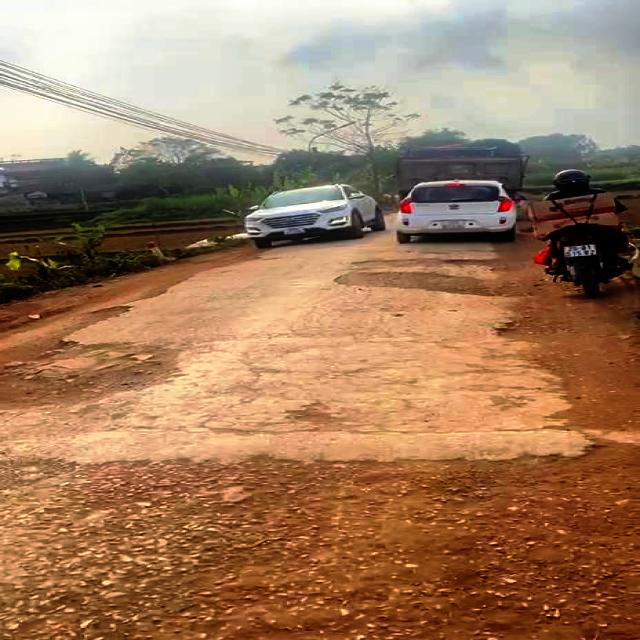pothole: (0, 303, 183, 407), (332, 256, 536, 296), (283, 402, 364, 435), (492, 312, 545, 346)
